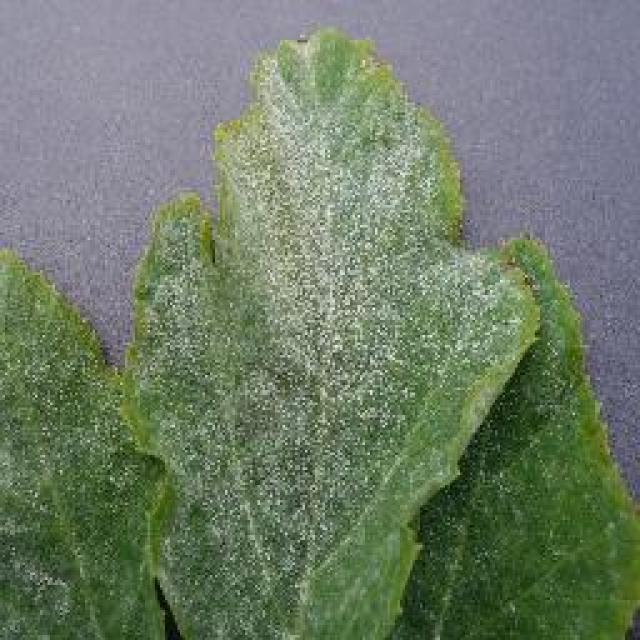Squ_Powdery_mildew: (10, 141, 519, 591)
